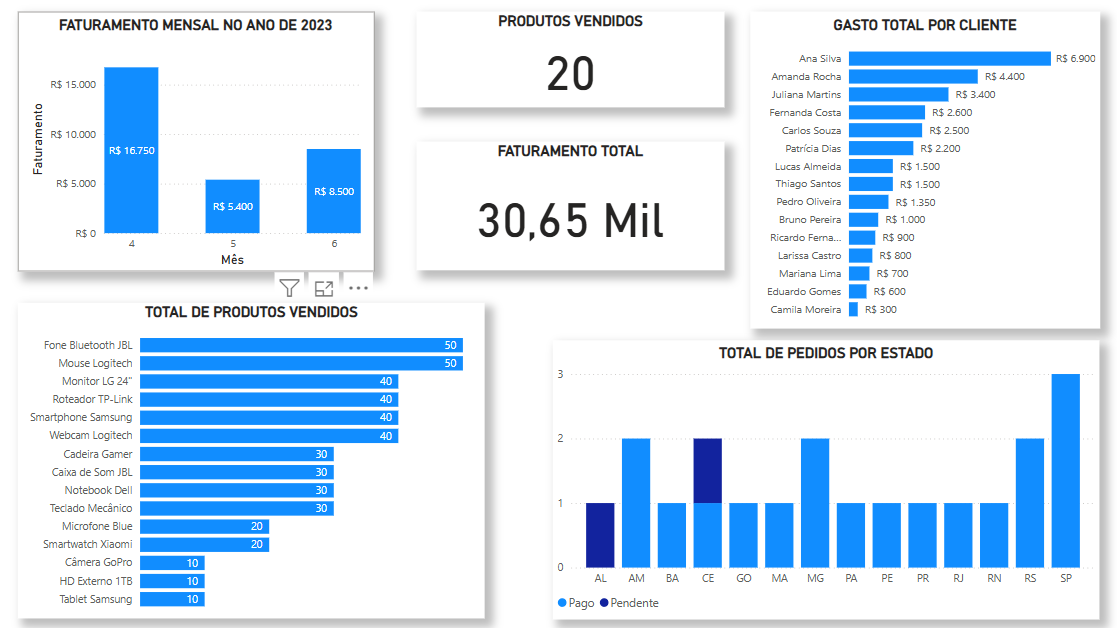

This screenshot's page, from the dashboard's own definition file:
{"tool":"powerbi","page":{"name":"Página 1","canvas":[1280,720],"ordinal":0},"visuals":[{"type":"clusteredBarChart","title":"GASTO TOTAL POR CLIENTE","fields":{"Category":["clientes_compras.nome"],"Y":["Sum(clientes_compras.total_gasto)"]},"box":[858.4,14.4,399.6,362.1],"z":0},{"type":"columnChart","title":"FATURAMENTO MENSAL NO ANO DE 2023","fields":{"Category":["faturamento_mensal.mes"],"Y":["Sum(faturamento_mensal.faturamento_mensal)"]},"box":[21.6,14.4,406.9,297.2],"z":1000},{"type":"clusteredBarChart","title":"TOTAL DE PRODUTOS VENDIDOS","fields":{"Category":["produtos_mais_vendidos.produto"],"Y":["Sum(produtos_mais_vendidos.quantidade)"]},"box":[21.6,347.7,533.8,360.7],"z":2000},{"type":"card","title":"FATURAMENTO TOTAL","fields":{"Values":["Sum(total_pedidos_faturamento.faturamento_geral)"]},"box":[477.6,163,352,147.2],"z":3000},{"type":"columnChart","title":"TOTAL DE PEDIDOS POR ESTADO","fields":{"Category":["qtd_pedidos_estado.estado","qtd_pedidos_estado.status_pagamento"],"Y":["Sum(qtd_pedidos_estado.total_pedidos)"],"Series":["qtd_pedidos_estado.status_pagamento"]},"box":[633.4,389.5,624.7,318.9],"z":4000},{"type":"card","title":"PRODUTOS VENDIDOS","fields":{"Values":["Sum(total_pedidos_faturamento.total_de_pedidos)"]},"box":[477.6,14.4,352,109.6],"z":5000}]}

Visuals, with their boxes in screenshot pixels (x1, y1, x2, y2), scaled from the page's 1280x720 canvas onto the 1117x628 screenshot:
"GASTO TOTAL POR CLIENTE" clusteredBarChart: 749/13/1098/328
"FATURAMENTO MENSAL NO ANO DE 2023" columnChart: 19/13/374/272
"TOTAL DE PRODUTOS VENDIDOS" clusteredBarChart: 19/303/485/618
"FATURAMENTO TOTAL" card: 417/142/724/271
"TOTAL DE PEDIDOS POR ESTADO" columnChart: 553/340/1098/618
"PRODUTOS VENDIDOS" card: 417/13/724/108
